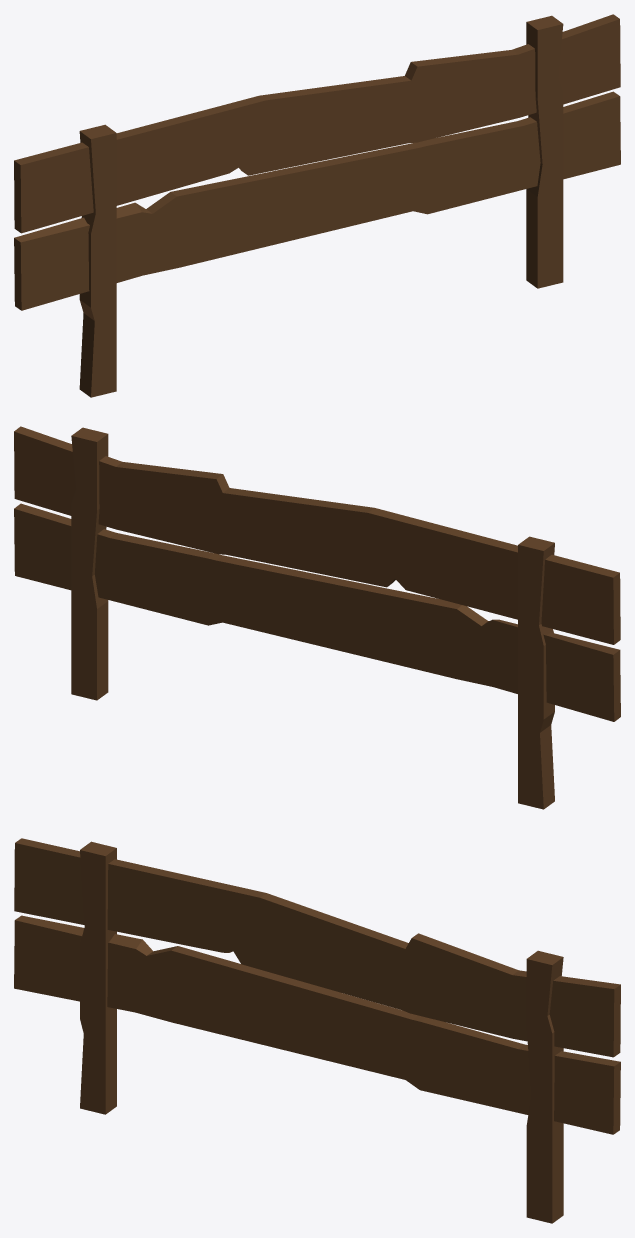
File: fence.glb
3 views of the same model, one above another, from view 1: azimuth 30°, elevation 25°; view 2: azimuth 150°, elevation 25°; view 3: azimuth 330°, elevation 25° (orthographic).
Parts seen in each view (by area): view 1: Fence; view 2: Fence; view 3: Fence.
Part boxes in pixels (x1,y1,x2,y2): Fence: (14,14,620,397); Fence: (14,426,620,809); Fence: (14,838,620,1223).
Bounding box in the file's own units: 0.791 × 0.326 × 0.0259.
